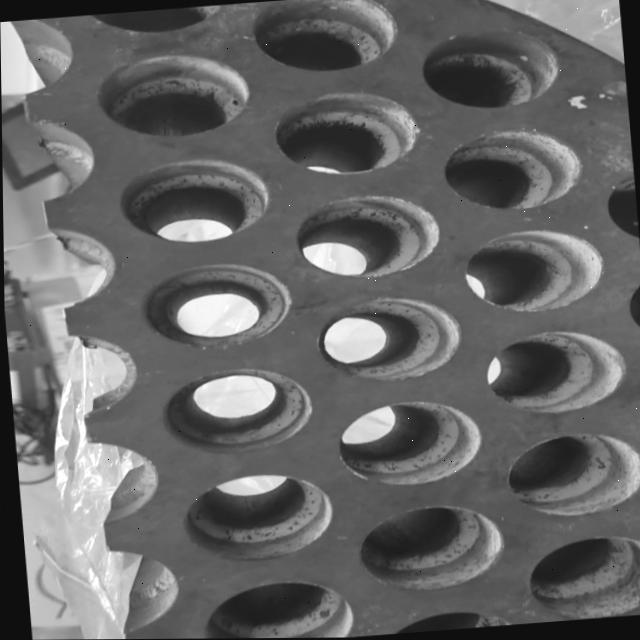Hole: (176, 469, 334, 566), (135, 258, 293, 355), (113, 153, 271, 248), (94, 48, 252, 143), (289, 189, 442, 284), (351, 501, 504, 596), (310, 291, 463, 386), (155, 365, 313, 456), (332, 397, 483, 491), (479, 325, 627, 419), (268, 88, 420, 179), (457, 226, 605, 317), (437, 125, 584, 215), (498, 428, 640, 521), (416, 28, 562, 115), (247, 0, 398, 77), (520, 532, 640, 624), (197, 576, 352, 639), (79, 5, 230, 38), (376, 607, 515, 635), (599, 174, 638, 249), (621, 272, 640, 347)
